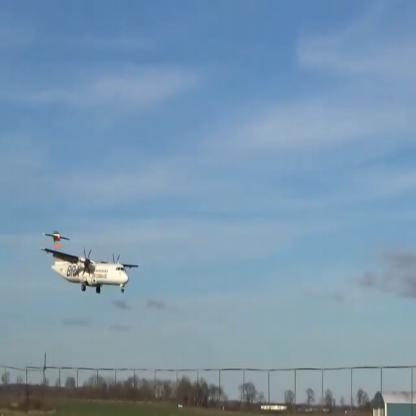aircraft: (36, 228, 143, 299)
